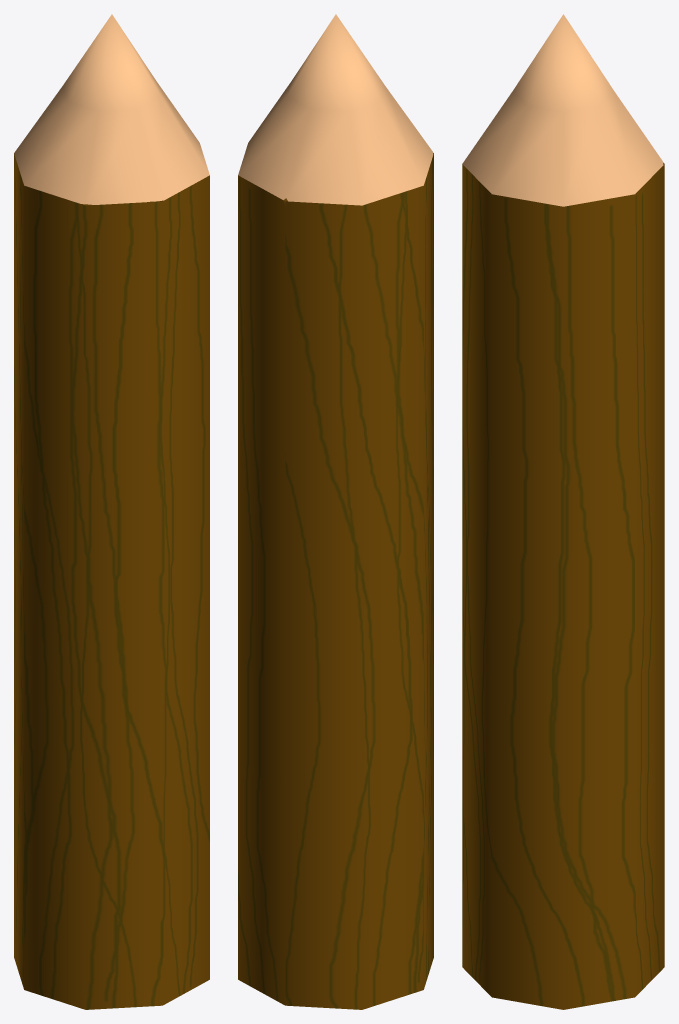
The model's file is Wall_Spike_D.fbx.
3 views of the same model, side by side, from view 1: azimuth 30°, elevation 25°; view 2: azimuth 150°, elevation 25°; view 3: azimuth 270°, elevation 25° (orthographic).
Visible parts, largest first — view 1: Wall_Spike_D_01; view 2: Wall_Spike_D_01; view 3: Wall_Spike_D_01.
Part boxes in pixels (x1,y1,x2,y2): Wall_Spike_D_01: [14, 14, 209, 1009]; Wall_Spike_D_01: [238, 14, 433, 1009]; Wall_Spike_D_01: [462, 14, 664, 1009].
Bounding box in the file's own units: 45.49 × 236 × 45.49.
